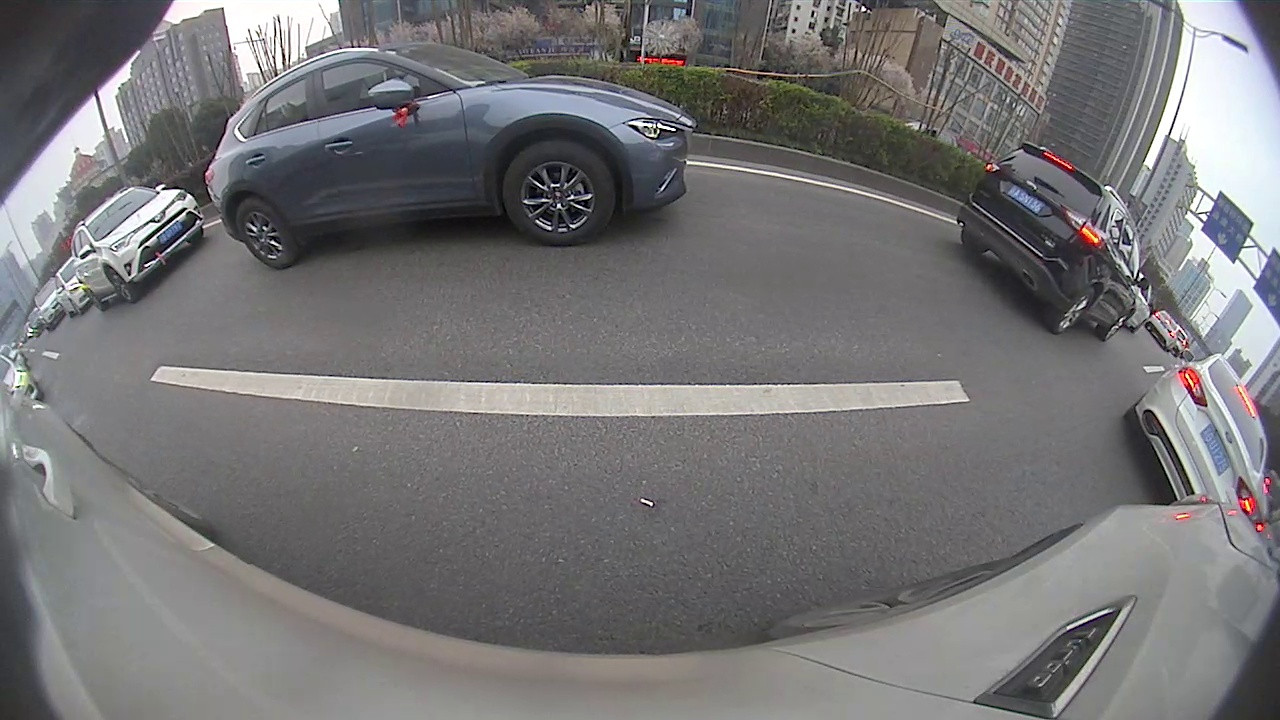bus: (460, 164, 509, 181)
car: (1027, 233, 1279, 417), (871, 175, 1004, 238), (783, 143, 877, 205), (1070, 218, 1165, 245), (537, 159, 588, 196), (735, 161, 777, 188), (874, 169, 918, 191), (689, 154, 721, 184), (459, 171, 488, 196), (720, 159, 739, 181), (623, 162, 645, 180)
front: (1032, 248, 1073, 289), (876, 195, 891, 214), (784, 178, 798, 194)
rear: (1202, 355, 1254, 420), (933, 209, 956, 235), (821, 184, 835, 201)
